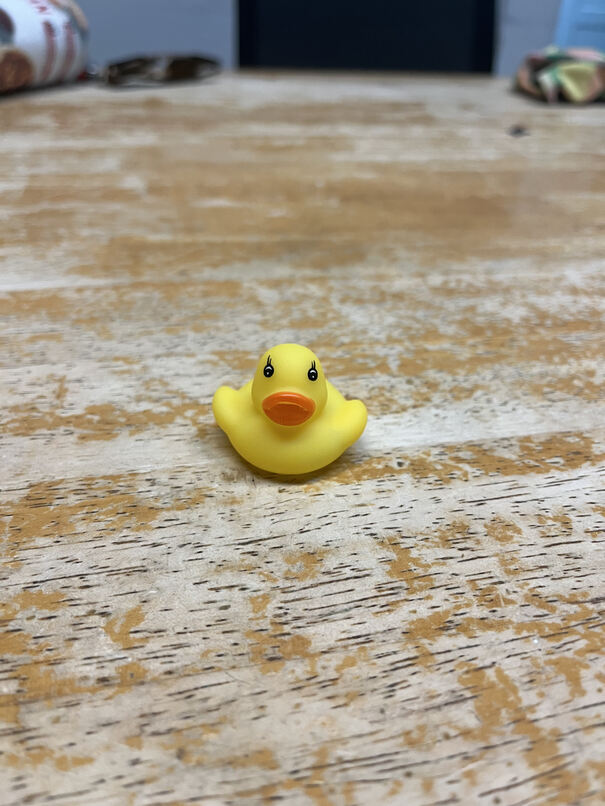duck_regular: (206, 342, 386, 482)
